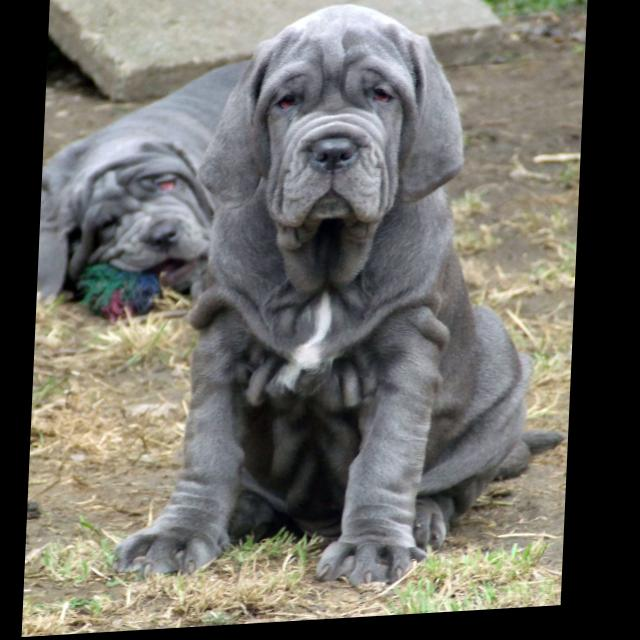mastino_napoletano: (116, 1, 588, 605), (41, 62, 255, 316)
